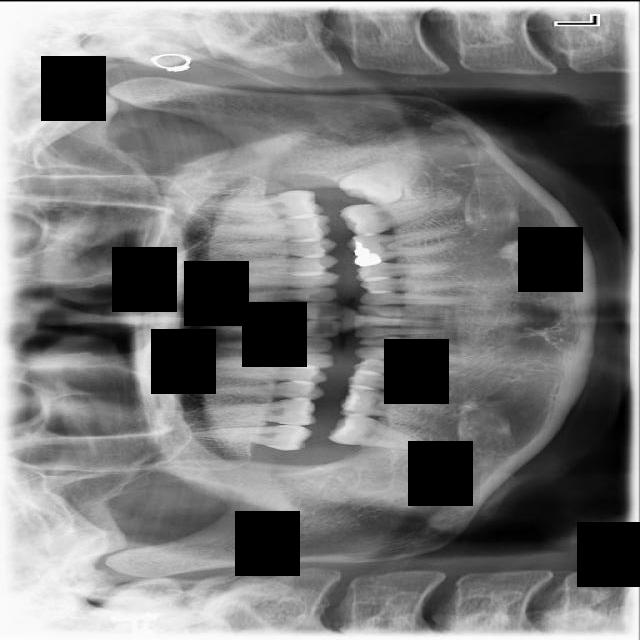52: (336, 379, 385, 424), (344, 226, 394, 269)
73: (533, 119, 549, 125)
BioHorizons Implant: (199, 187, 325, 219)
Biomet 3i Implant: (335, 152, 423, 215)
Blue Sky Bio Implant: (338, 195, 446, 238)
Caries: (182, 423, 313, 450)
Implant: (327, 410, 423, 452)
